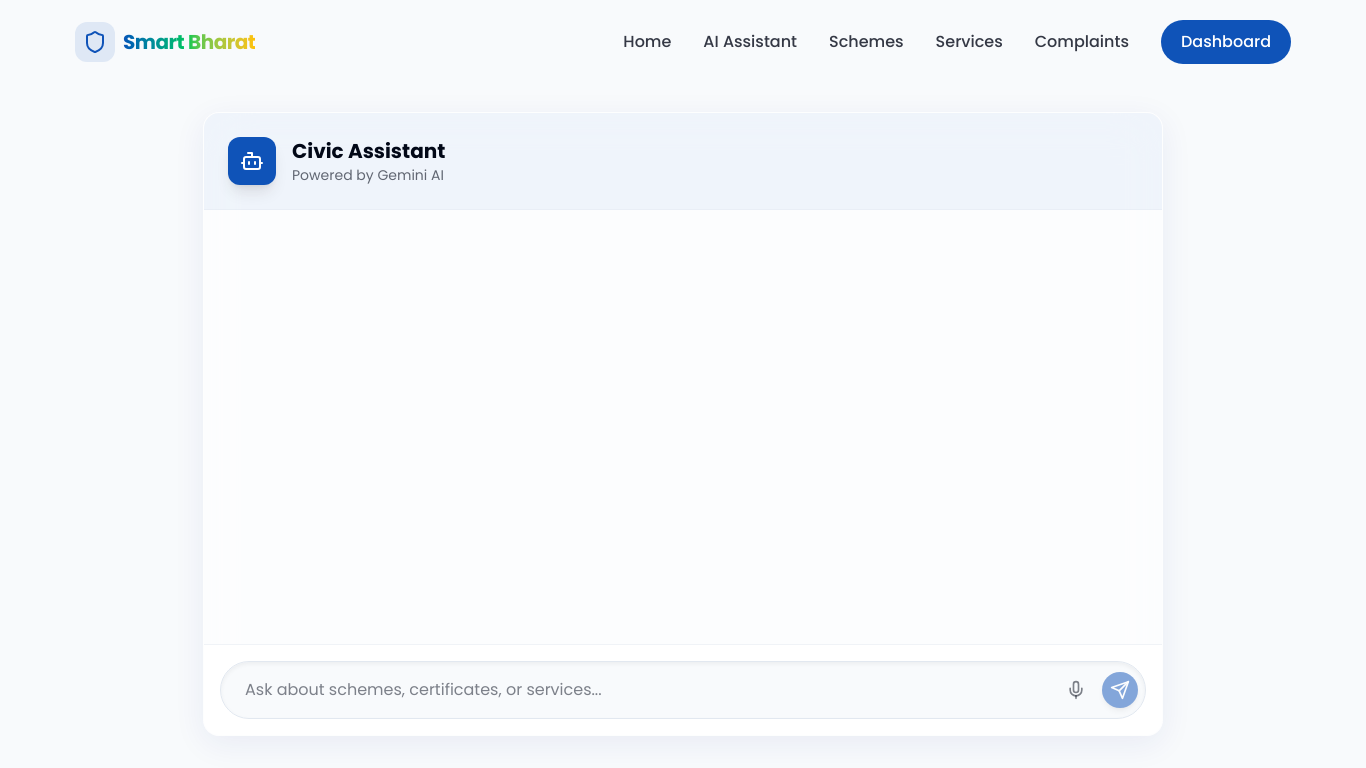
Assistant Page Component › submits the message and displays the AI response
This screenshot has width=1366, height=768.
Note: Type a message and submit
Type "Test prompt" into the field with placeholder "Ask about schemes, certificates, or services..." at (683, 690), box [220,661,1146,719]
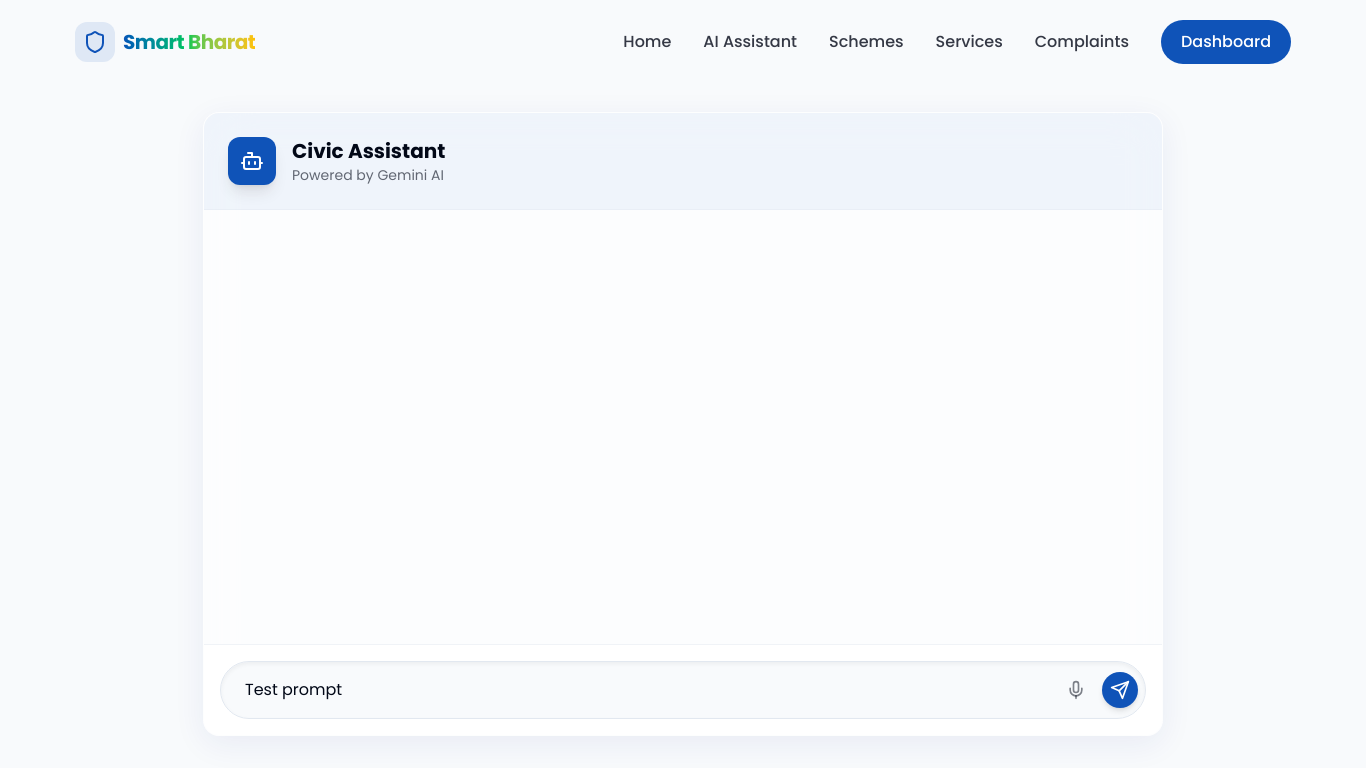
Click the button named "Send message" at (1120, 690), box [1102,672,1138,708]
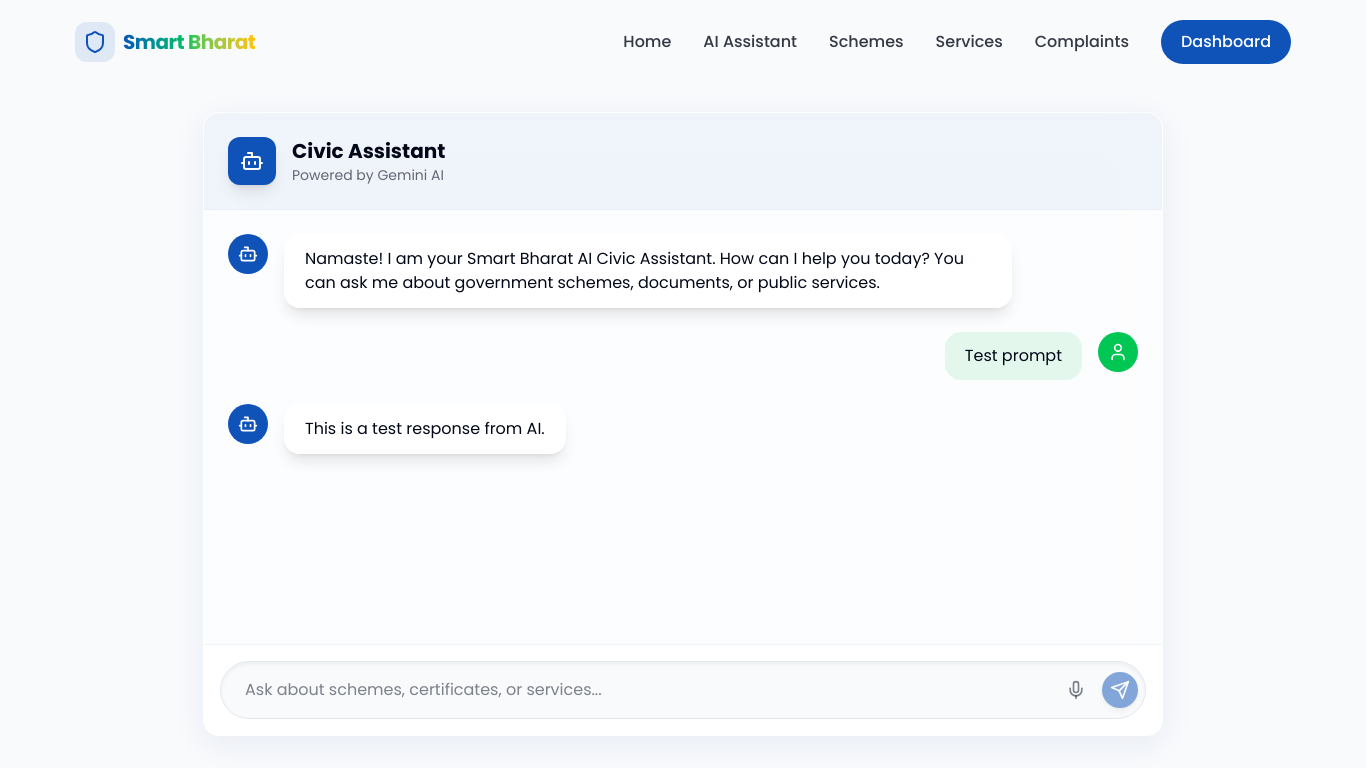
Result: the text "Test prompt" is shown at [965,344,1062,368]
Result: the text "This is a test response from AI." is shown at [305,417,545,441]
